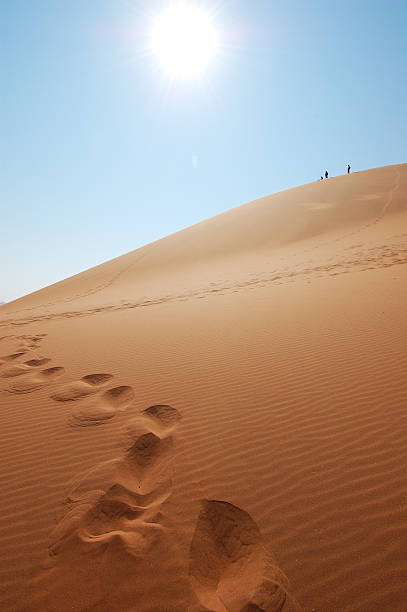human_footprint: (27, 405, 299, 611), (28, 414, 202, 611), (189, 500, 299, 611), (51, 373, 134, 426), (4, 366, 64, 393)
